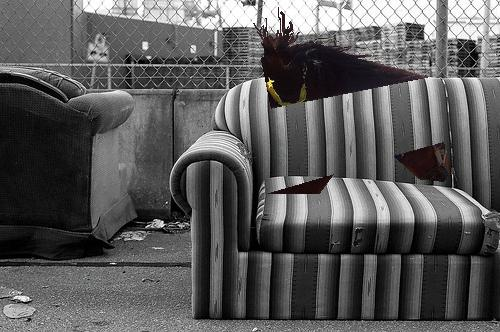tampered: (254, 8, 450, 194)
